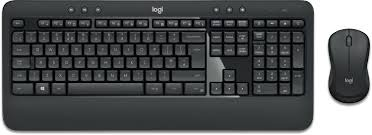keyboard: (5, 0, 317, 135)
mouse: (328, 25, 370, 114)
